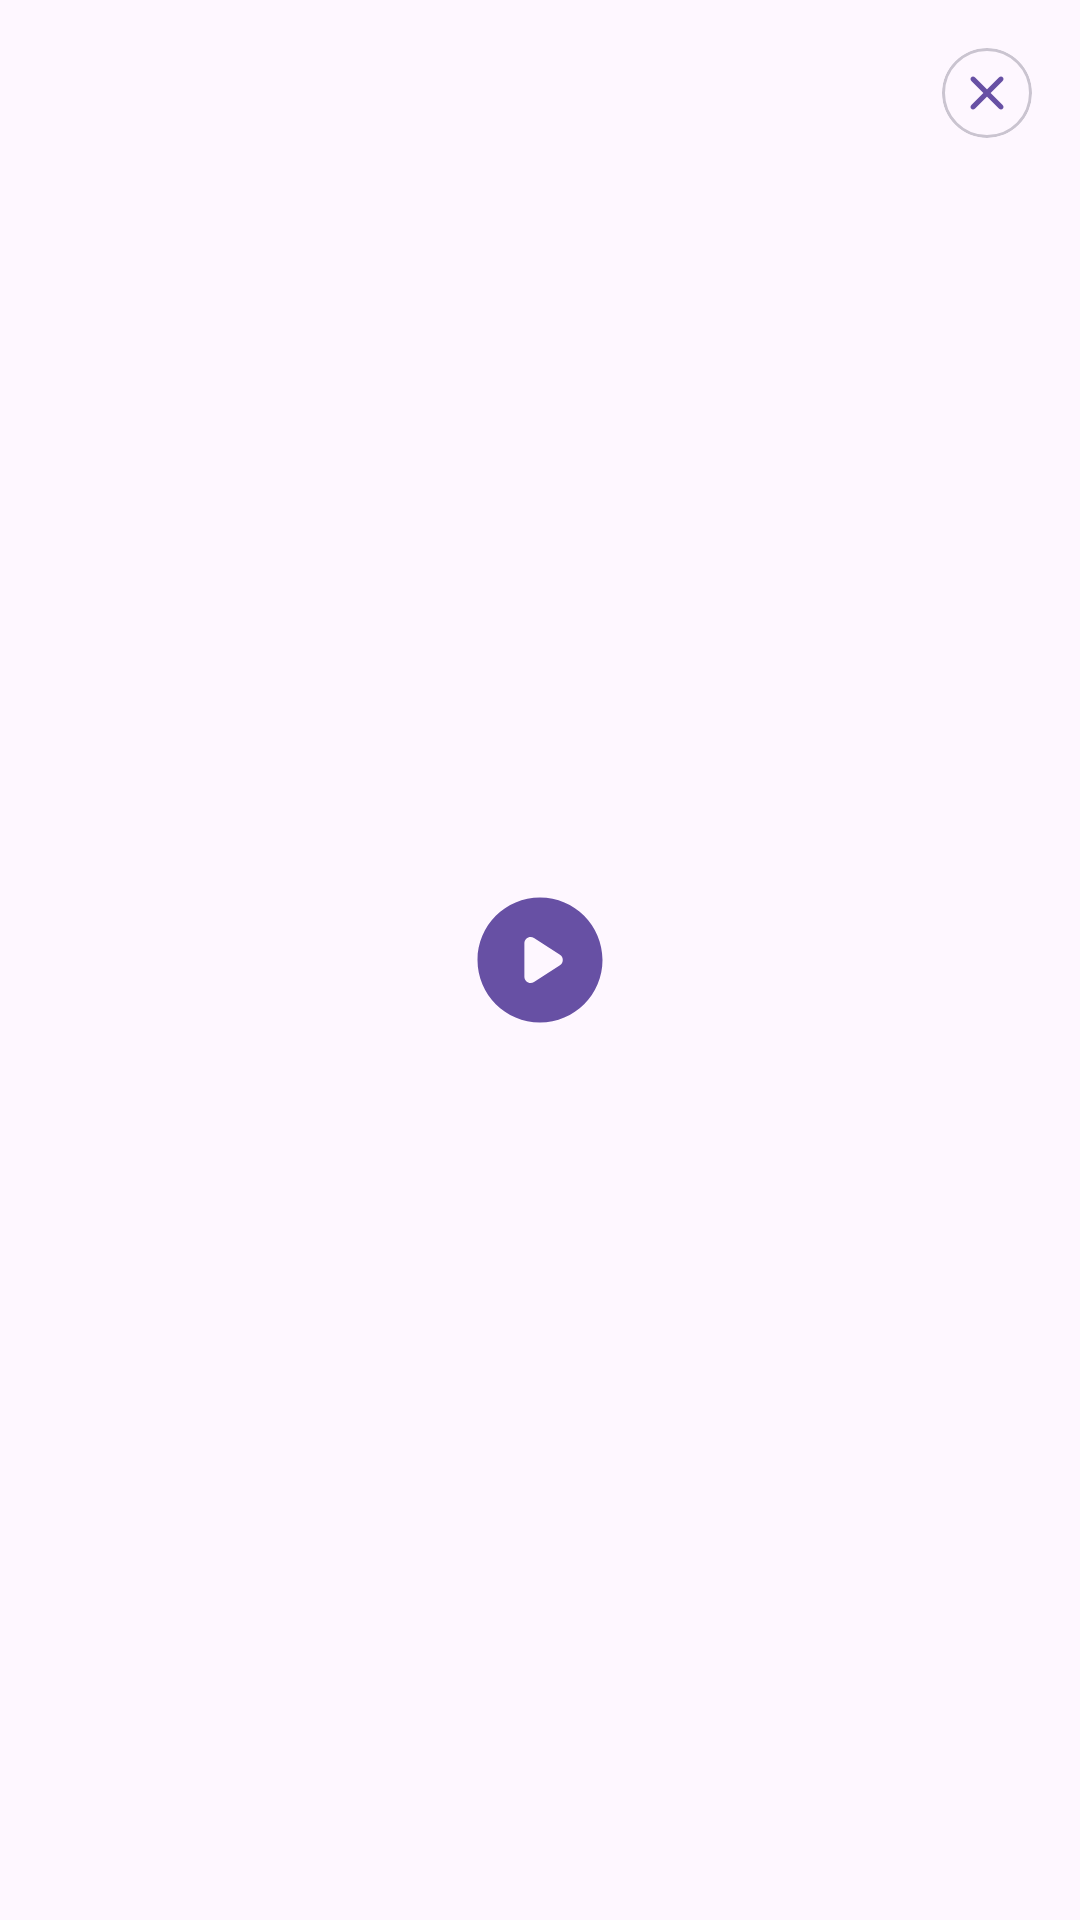

Screen size 1080px×1920px. Icon name, then its center in pixels as point (x, y):
close: point (987, 93)
play circled: point (540, 960)
